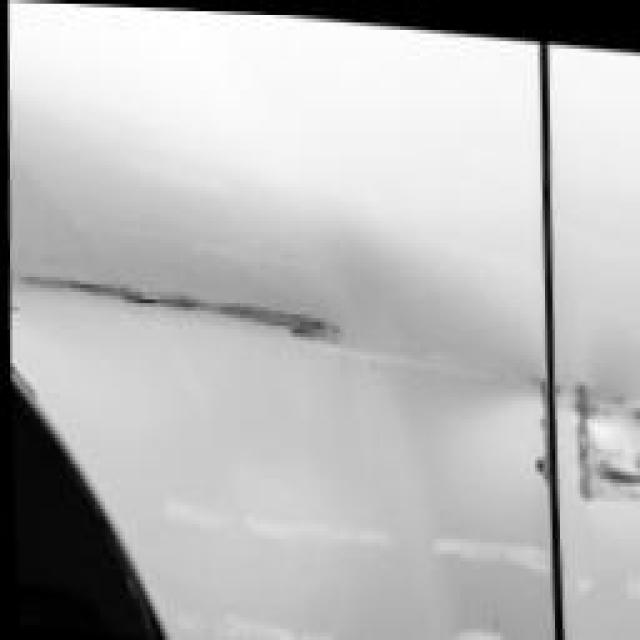Door: (540, 344, 639, 514)
Fender: (12, 195, 549, 495)
